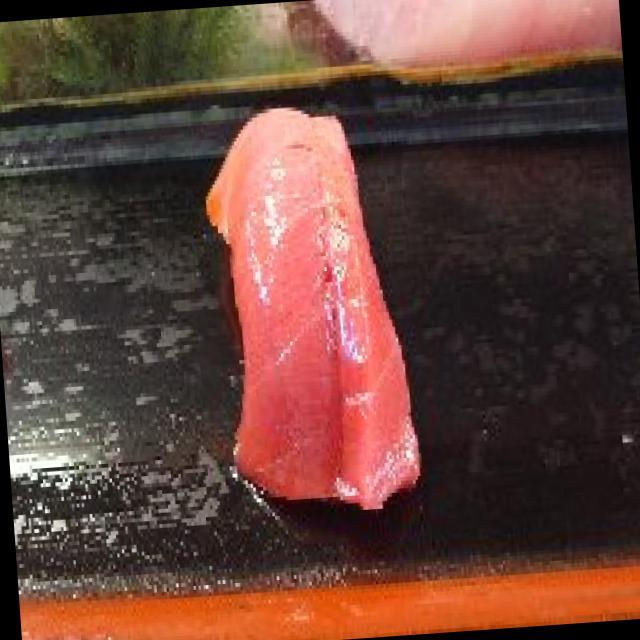Sushi: (200, 92, 427, 522)
